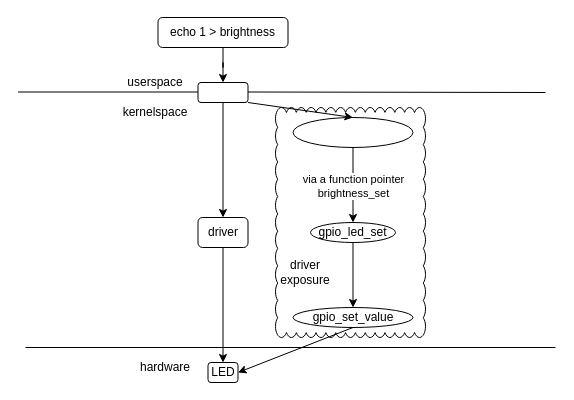
The diagram is 574 pixels wide and 400 high, and some of its shapes have lost their labels. Each missing label, with the box of its shape:
led_set_brightness: (292, 116, 413, 148)
sysfs: (197, 82, 248, 102)
